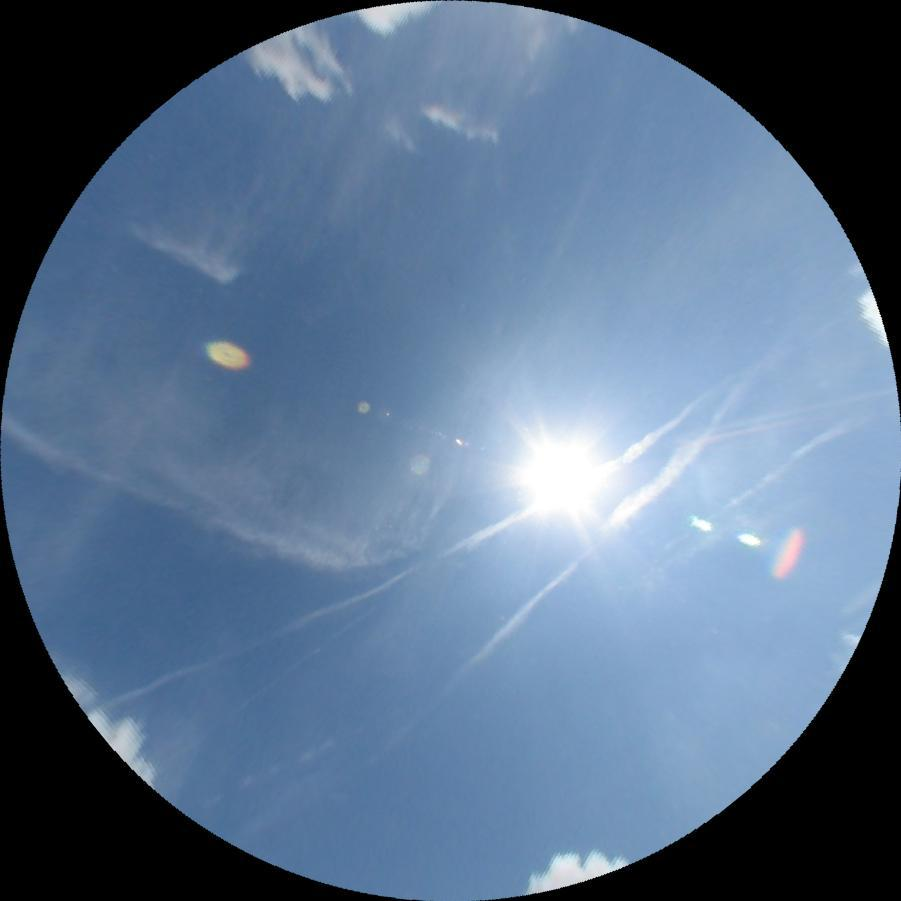contrail veryold: (113, 381, 733, 730), (455, 382, 752, 690)
parasite: (142, 601, 378, 780)
sun: (519, 432, 600, 510)
unknow: (709, 419, 850, 521)
